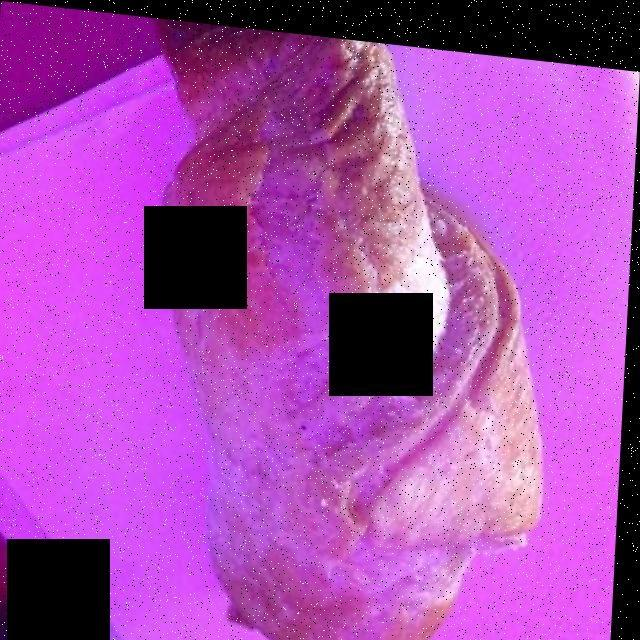croissant: (163, 39, 549, 640)
